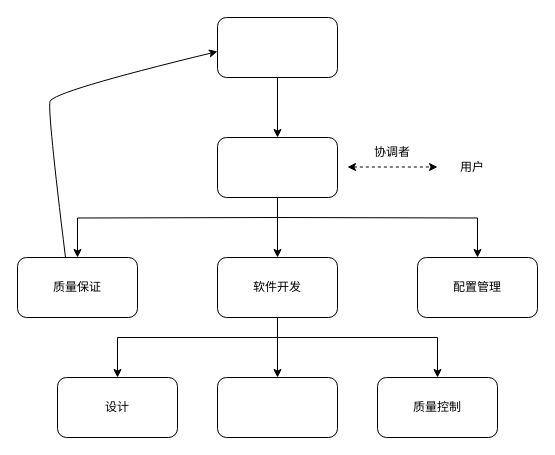
The diagram is 555 pixels wide and 455 high, and some of its shapes have lost their labels. The shapes that lost their labels are listed below. From the top down, each one's centre as x and y in pixels, then its label:
At (x=277, y=47): "高层管理".
At (x=277, y=167): "项目管理".
At (x=277, y=407): "实施".
